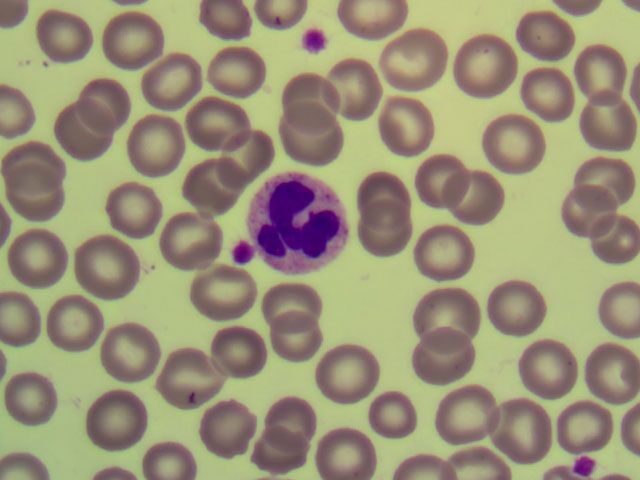Platelets: (303, 31, 327, 55), (232, 244, 251, 262), (574, 459, 592, 475)
RBC: (453, 35, 514, 97), (417, 289, 481, 345), (320, 345, 380, 404), (410, 329, 475, 382), (327, 59, 383, 118), (319, 428, 378, 480), (415, 227, 474, 278), (438, 388, 497, 439), (43, 297, 102, 348), (75, 241, 134, 292), (581, 275, 640, 326), (560, 184, 619, 235), (279, 114, 338, 165), (281, 74, 340, 125), (378, 100, 437, 151), (487, 119, 546, 170), (161, 354, 220, 405), (206, 325, 265, 376), (201, 399, 260, 450), (261, 393, 320, 444), (501, 400, 560, 451), (581, 342, 640, 393), (556, 398, 615, 449), (519, 340, 578, 391), (98, 325, 157, 376), (142, 53, 201, 104), (106, 183, 165, 234), (56, 103, 115, 154), (2, 163, 61, 214), (125, 119, 184, 170), (12, 230, 71, 281), (1, 371, 60, 422), (159, 214, 218, 265), (81, 394, 140, 445), (514, 8, 573, 59), (388, 33, 447, 84), (210, 44, 269, 95), (37, 9, 96, 60), (575, 156, 634, 207), (576, 46, 635, 97), (581, 97, 640, 148), (487, 282, 543, 334), (359, 203, 411, 255), (520, 67, 574, 117), (224, 125, 269, 183), (418, 157, 470, 206), (263, 284, 323, 326), (450, 170, 501, 219), (186, 157, 238, 204), (195, 1, 253, 40), (270, 309, 317, 356), (360, 172, 407, 219), (188, 99, 244, 137), (445, 448, 511, 480), (340, 1, 403, 34), (1, 84, 39, 138), (254, 1, 311, 30), (1, 451, 46, 480)
WBC: (247, 177, 347, 277)
